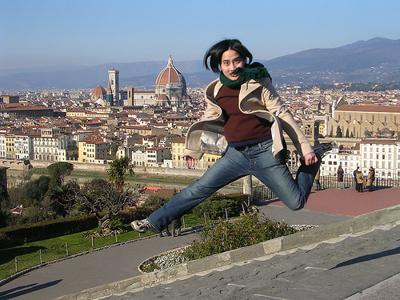person: (131, 37, 326, 237)
